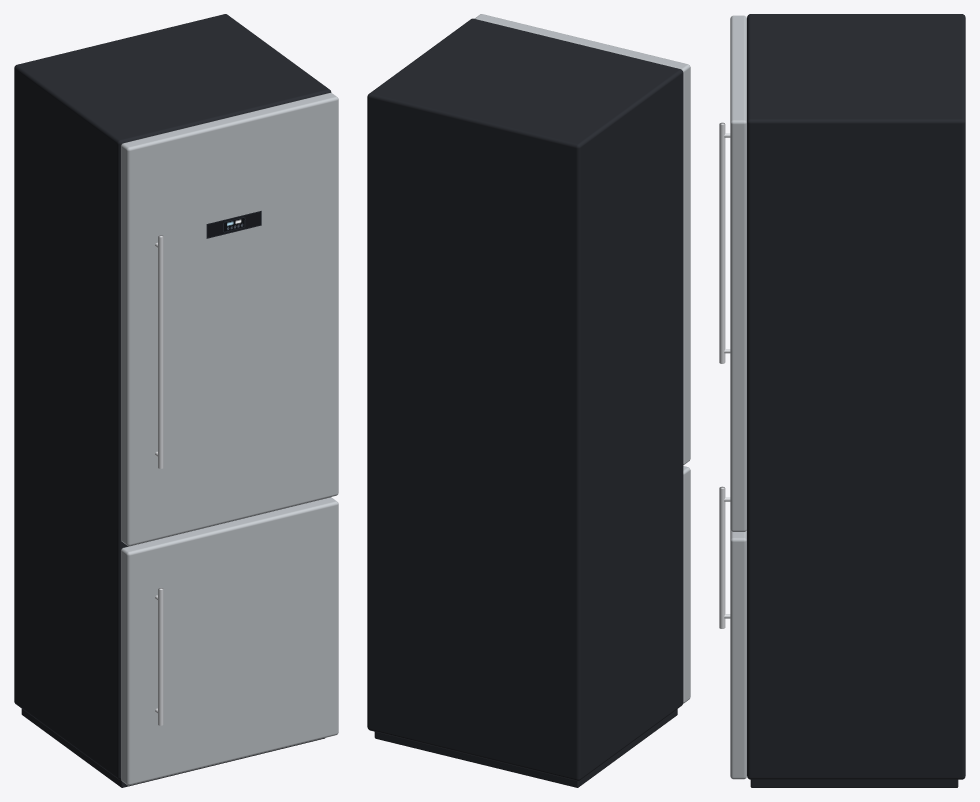
File: obj_fridge_solo_700.glb
The picture shows the model from 3 angles, left to right: view 1: azimuth 30°, elevation 25°; view 2: azimuth 150°, elevation 25°; view 3: azimuth 270°, elevation 25°; orthographic projection. The views are drawn at different scales.
Parts seen in each view (by area): view 1: obj_fridge_solo_700; view 2: obj_fridge_solo_700; view 3: obj_fridge_solo_700.
Part boxes in pixels (x1,y1,x2,y2): obj_fridge_solo_700: (14,14,338,787); obj_fridge_solo_700: (367,14,690,787); obj_fridge_solo_700: (719,14,965,787).
Bounding box in the file's own units: 0.7 × 2.03 × 0.676.
4 materials, 1 textured.
